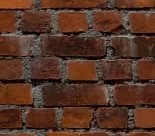brick: (40, 35, 107, 57), (41, 84, 109, 105), (110, 36, 155, 57), (114, 84, 155, 105), (1, 35, 37, 58), (56, 11, 90, 34), (31, 58, 65, 80), (93, 10, 125, 33), (20, 11, 53, 33), (101, 59, 133, 80), (1, 84, 33, 105), (67, 60, 98, 81), (95, 109, 129, 128), (127, 11, 155, 34), (62, 107, 91, 129), (26, 108, 58, 127), (1, 59, 26, 78), (132, 108, 155, 128), (1, 107, 22, 128), (1, 11, 20, 33), (136, 60, 155, 80)
